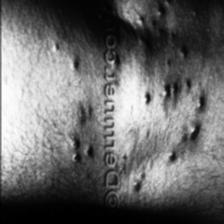Toxin: (119, 0, 206, 170), (49, 27, 97, 170)
